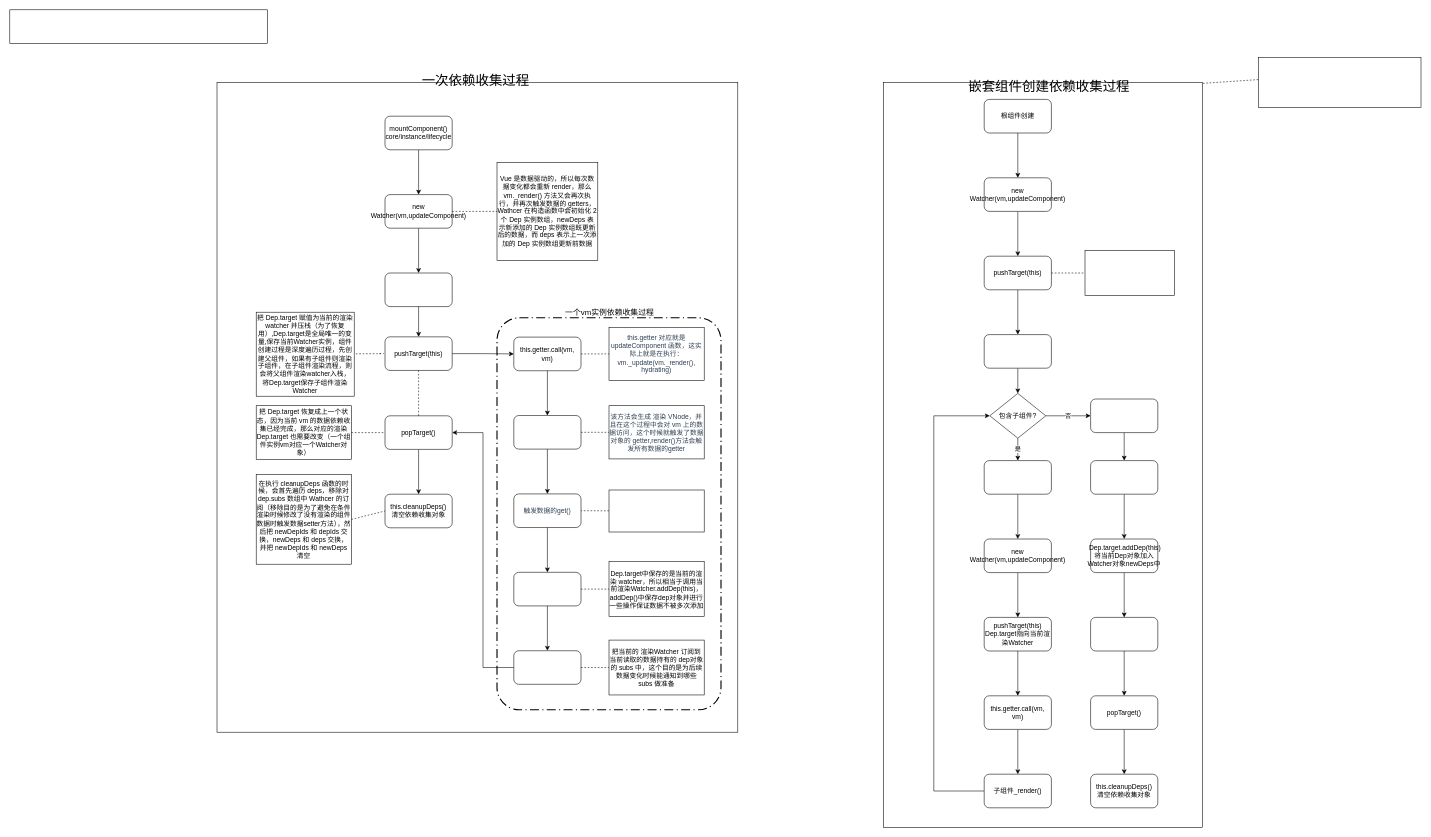
This 1431x837 diagram has some shape labels left out. The centre of each missing label's shape, as x and y in pixels:
_render()过程: the point at 1017,351
dep.addSub(this): the point at 547,667
dep.addSub(this) 将当前Watcher添加到Dep.subs: the point at 1124,634
dep.depend(): the point at 1124,477
dep.depend() 实际执行 Dep.target.addDep(this): the point at 547,589
vm._render(): the point at 547,432
watcher.get(): the point at 418,289
依赖收集 触发数据get(): the point at 1124,415
依赖收集发生在组件渲染时 嵌套组件创建过程是深度遍历创建子组件后父组件，因此依赖收集过程也是先收集子组件依赖后收集父组件依赖: the point at 1339,82
依赖收集：订阅数据变化的Watcher的收集 依赖收集目的：当这些响应式数据发生变化，触发数据的setter时，通知响应订阅者: the point at 138,26
子组件 init(): the point at 1017,477
数据get()为使用Object.definePrototy()定义的数据get方法 (src/core/observe/index): the point at 656,510
根组件的Dep.target为空,Dep.target保存当前Watcher: the point at 1129,272
